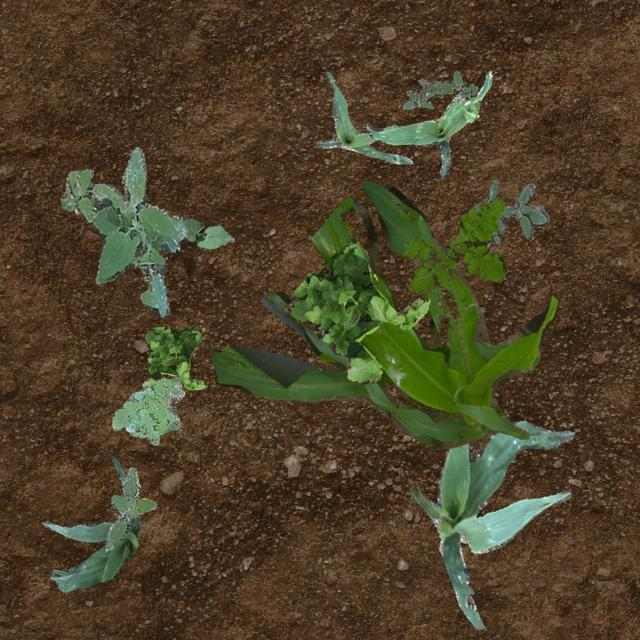crop: (210, 180, 558, 448), (409, 420, 573, 628), (364, 70, 490, 178), (42, 456, 140, 592), (314, 70, 412, 164), (178, 216, 232, 248)
weed: (59, 146, 184, 316), (286, 236, 428, 382), (404, 195, 504, 292), (472, 178, 548, 250), (110, 376, 183, 444), (104, 466, 156, 550), (140, 324, 206, 388), (402, 70, 476, 108)
